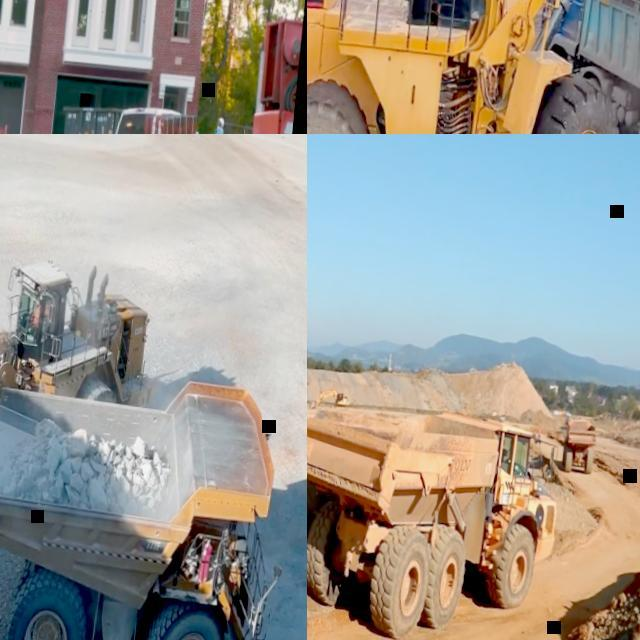helmet: (216, 119, 224, 127)
vest: (30, 304, 50, 328)
